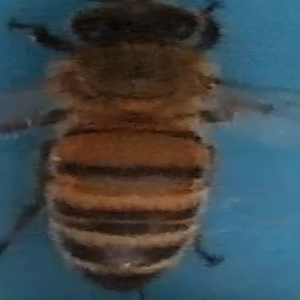bee: (2, 3, 293, 296)
